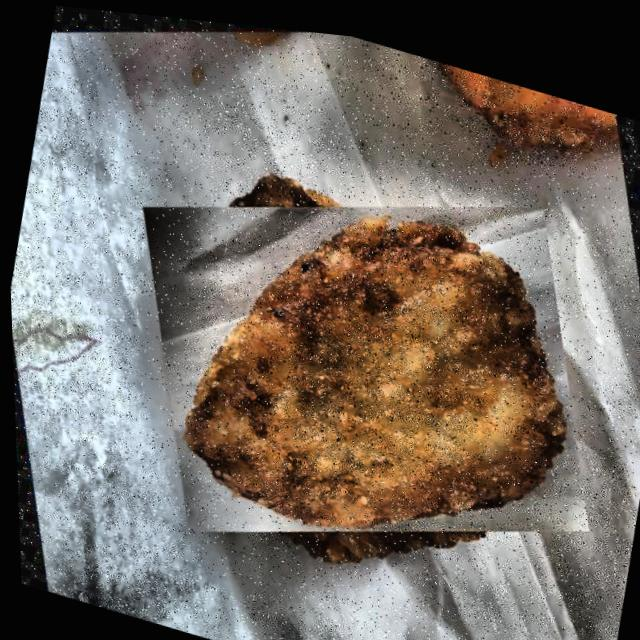Food: (89, 72, 637, 640)
